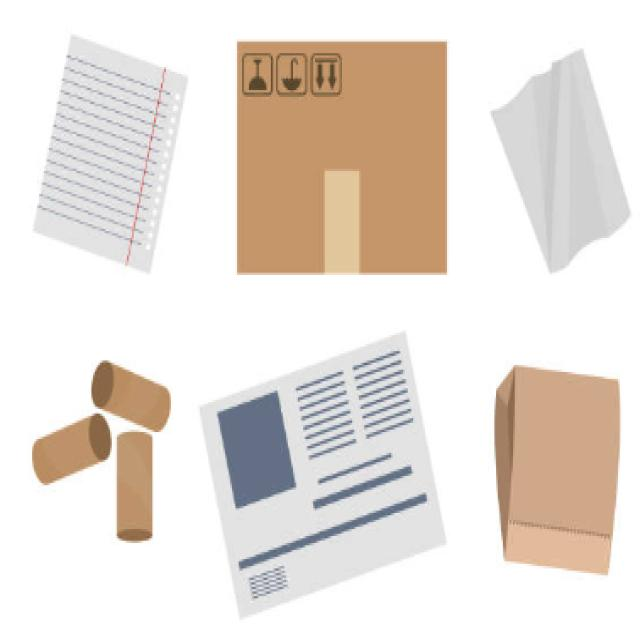Kardus: (237, 41, 449, 278)
KertasBekas: (34, 37, 190, 277), (492, 51, 632, 275), (494, 365, 622, 580)
Koran: (200, 332, 447, 622)
